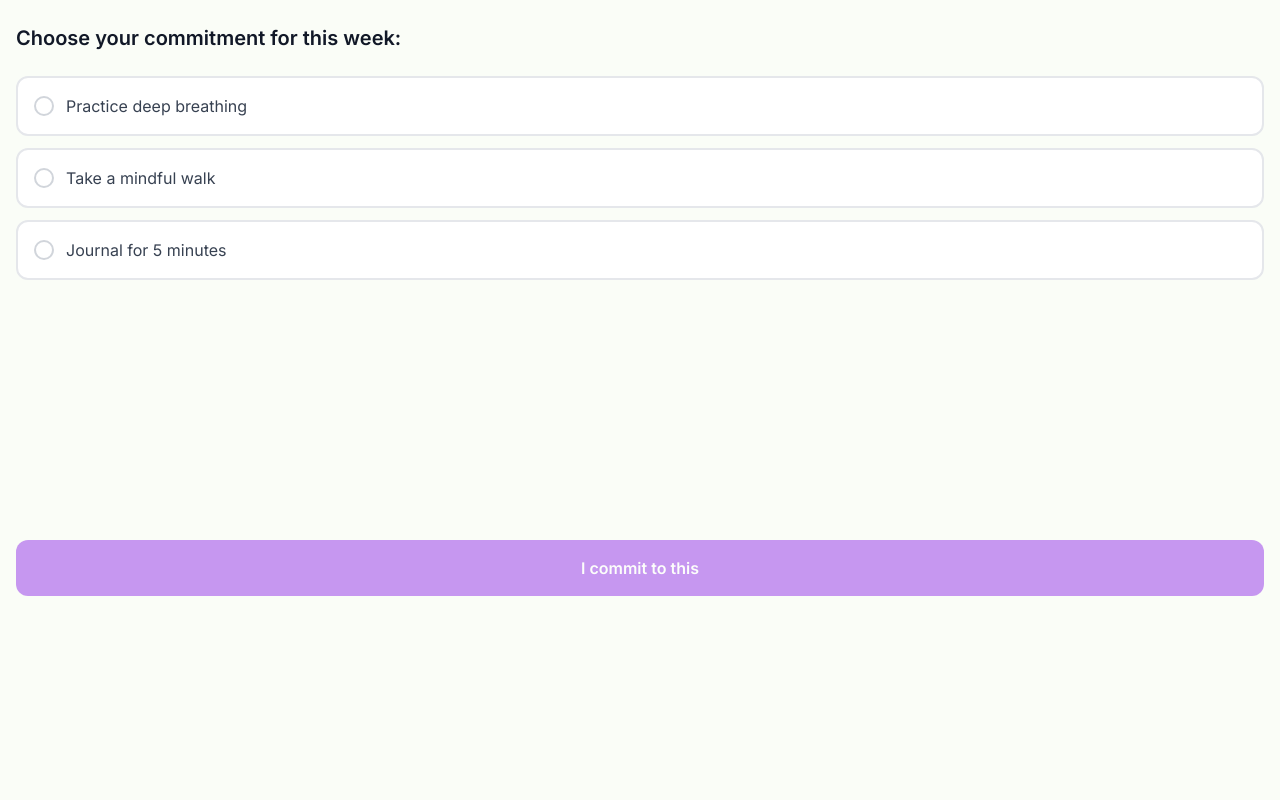
MicroCommitment › option selection › enables commit button when an option is selected
Click the button "Practice deep breathing".
click(157, 106)  # box [16, 76, 1264, 136]
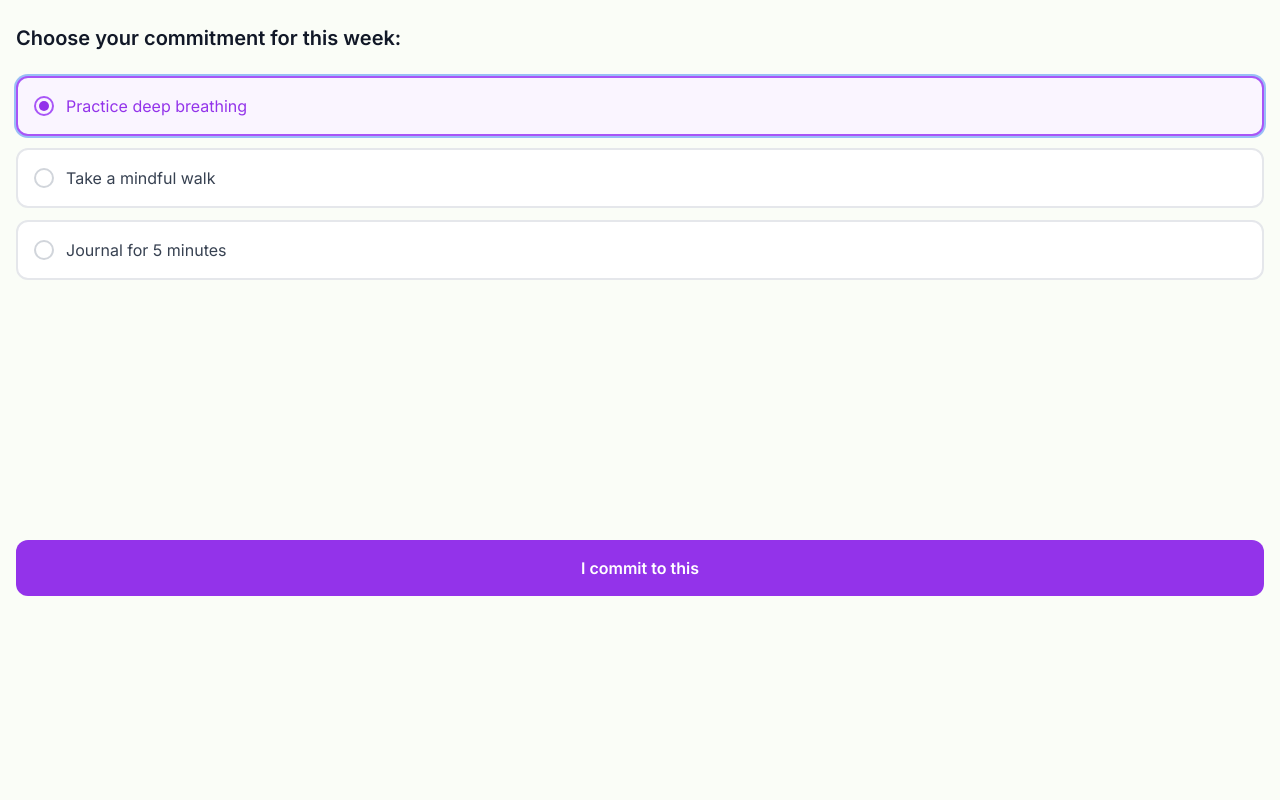
Expected: the button "I commit to this" is enabled, [16, 540, 1264, 596]
